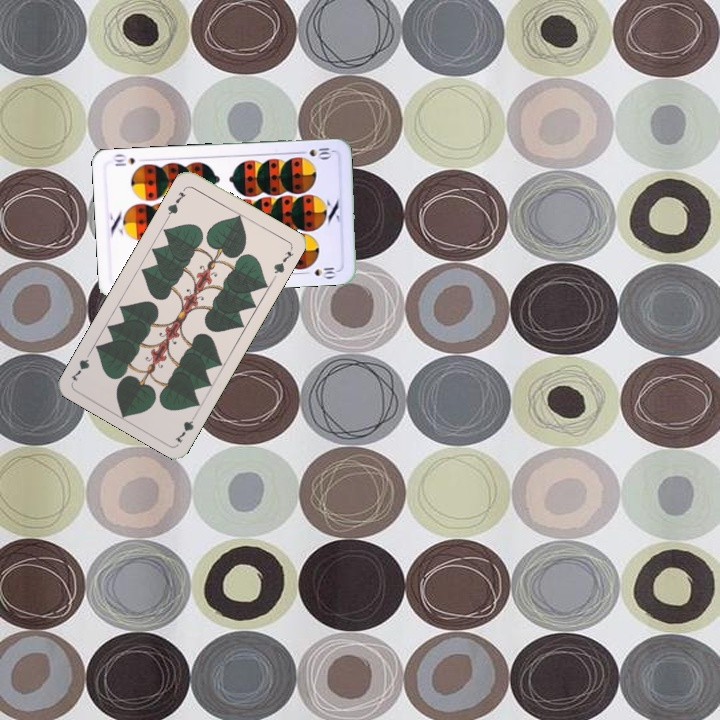G7: (171, 408, 200, 446), (163, 188, 188, 221)
S10: (295, 144, 334, 160)
